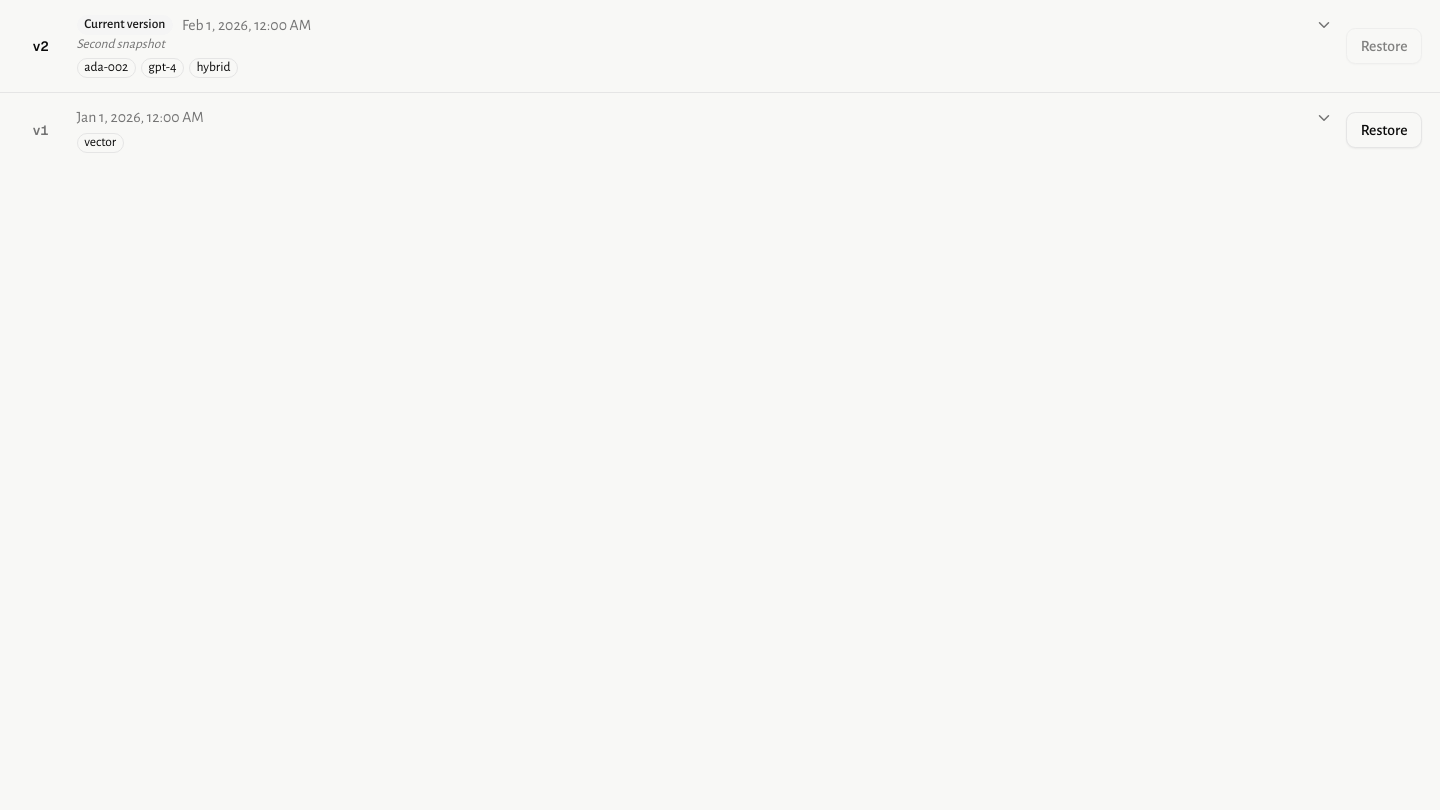
Scenario: ProjectSnapshotsList › should open restore dialog when restore button is clicked
Expected: the text "v2" is shown, [32,37,49,55]
// Click restore on v1 (not current version)
Click the 2nd button "Restore" at (1384, 130), box [1346,112,1422,148]
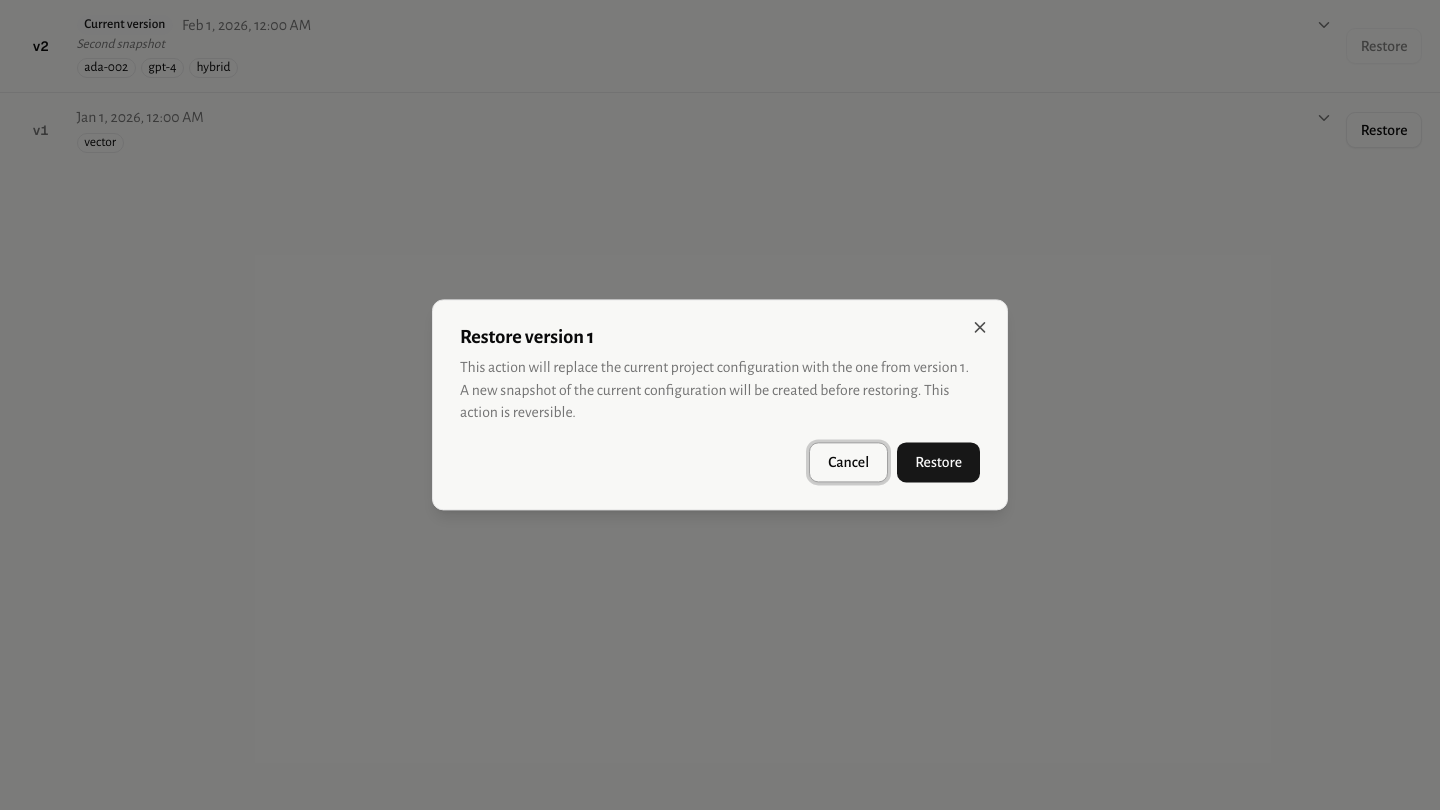
Expected: the dialog is shown, [432,299,1008,511]
